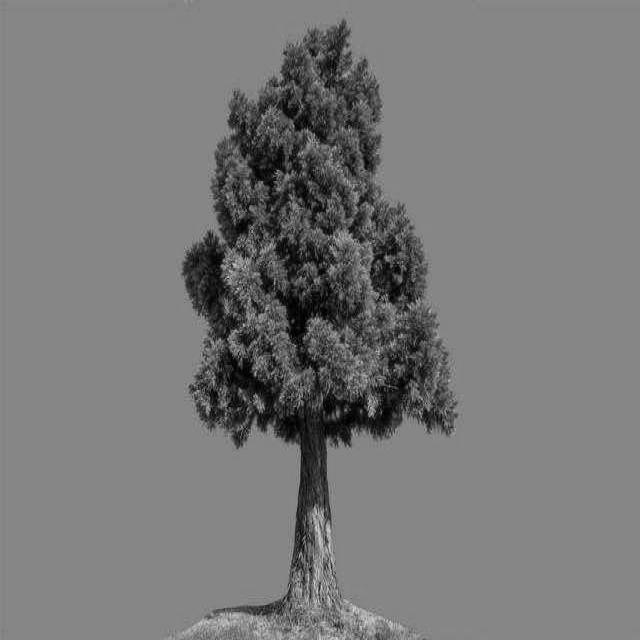Tree: (175, 23, 457, 639)
